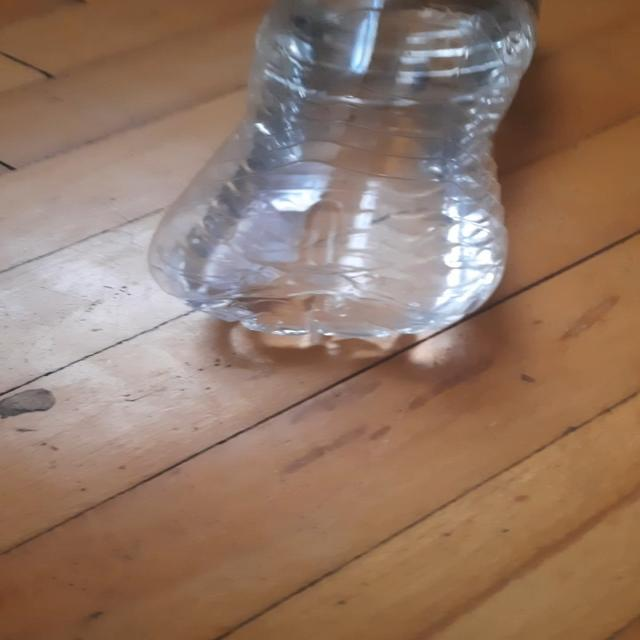Plastic: (147, 0, 540, 358)
